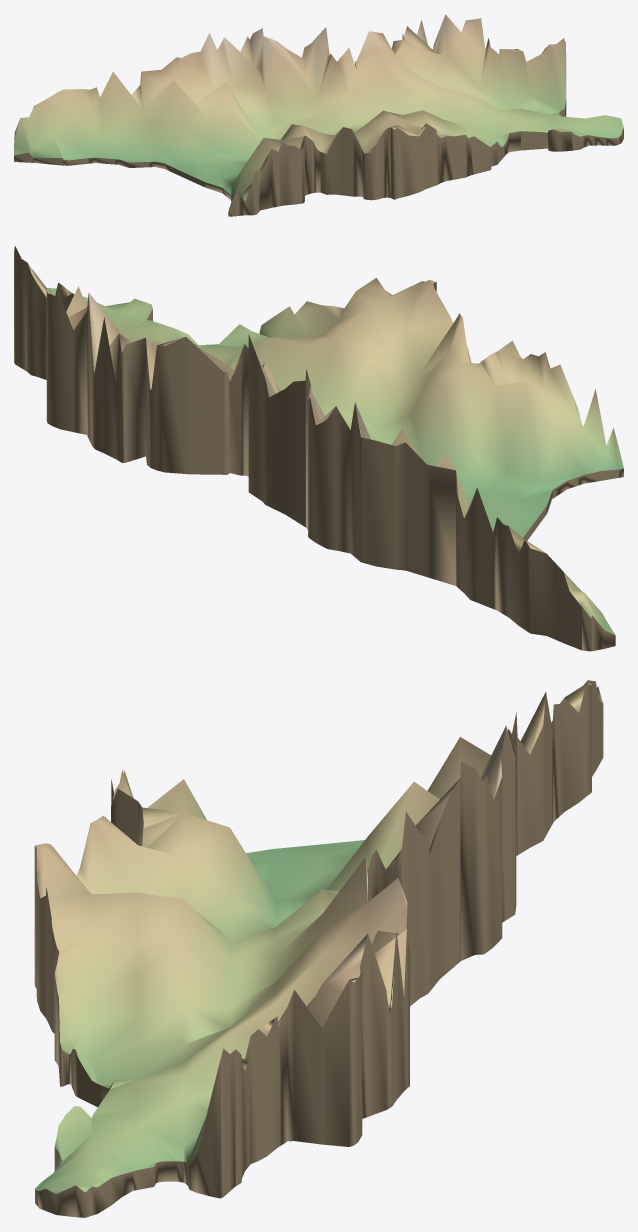
3 renders of one model, top to bottom at view 1: azimuth 30°, elevation 25°; view 2: azimuth 150°, elevation 25°; view 3: azimuth 270°, elevation 25°, orthographic. The views are drawn at different scales.
Parts seen in each view (by area): view 1: GEO; view 2: GEO; view 3: GEO.
Boxes of the visible parts, <box> form: GEO: <box>14,14,623,216</box>; GEO: <box>14,246,623,651</box>; GEO: <box>34,680,603,1217</box>.
Size of the model in its own units: 1.71 by 0.338 by 0.8716.
